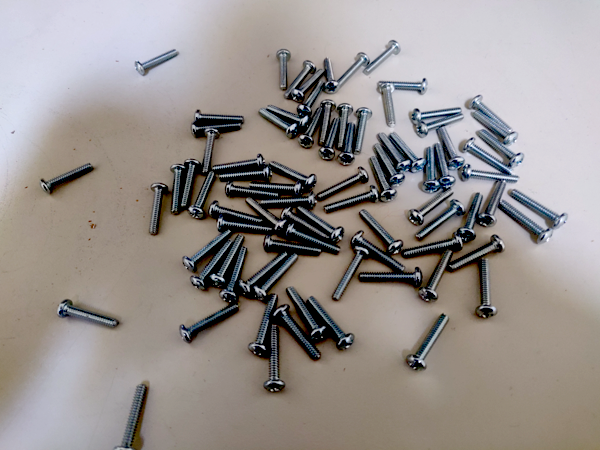longscrew: (306, 296, 352, 350), (409, 316, 452, 373), (421, 249, 464, 306), (277, 306, 320, 360), (254, 254, 303, 300), (238, 251, 287, 296), (180, 305, 239, 342), (287, 284, 325, 339), (418, 198, 464, 243), (181, 229, 231, 270), (514, 186, 567, 224), (248, 292, 277, 359), (353, 234, 405, 271), (192, 240, 231, 289), (117, 387, 147, 450), (262, 323, 290, 390), (501, 202, 549, 241), (466, 139, 515, 176), (475, 130, 524, 167), (469, 106, 518, 143), (406, 233, 462, 265), (470, 93, 518, 130), (450, 240, 506, 271), (42, 159, 95, 191), (334, 249, 366, 302), (408, 189, 455, 225), (469, 260, 497, 320), (314, 166, 368, 196), (325, 187, 379, 217), (57, 301, 119, 327), (361, 209, 400, 250), (223, 248, 252, 302), (213, 232, 242, 286), (299, 207, 344, 240), (282, 208, 327, 241), (245, 195, 286, 231), (268, 157, 317, 187), (208, 200, 262, 227), (287, 225, 339, 253), (265, 232, 319, 258), (216, 216, 270, 242), (456, 193, 484, 243), (389, 130, 424, 170), (376, 130, 411, 170), (479, 182, 508, 230), (373, 145, 407, 185), (366, 158, 400, 198), (365, 39, 403, 73), (333, 52, 371, 86), (135, 49, 184, 75), (415, 112, 464, 138), (189, 173, 215, 219), (256, 109, 299, 136), (263, 103, 310, 126), (356, 269, 423, 285), (461, 166, 520, 184), (149, 184, 168, 238), (286, 61, 316, 95), (293, 67, 323, 100), (297, 81, 325, 116), (215, 166, 274, 182), (378, 80, 397, 128), (355, 105, 374, 153), (340, 119, 359, 167), (335, 99, 354, 147), (320, 117, 339, 165), (299, 107, 321, 148), (214, 152, 264, 170), (437, 142, 455, 190), (316, 97, 334, 145), (183, 159, 199, 212), (183, 159, 199, 211), (411, 105, 462, 121), (444, 125, 462, 170), (422, 146, 439, 193), (193, 110, 244, 125), (188, 119, 239, 134), (245, 181, 306, 193), (220, 184, 281, 196), (257, 194, 318, 206), (203, 126, 217, 177), (377, 79, 432, 91), (326, 54, 339, 96), (277, 48, 288, 90)
